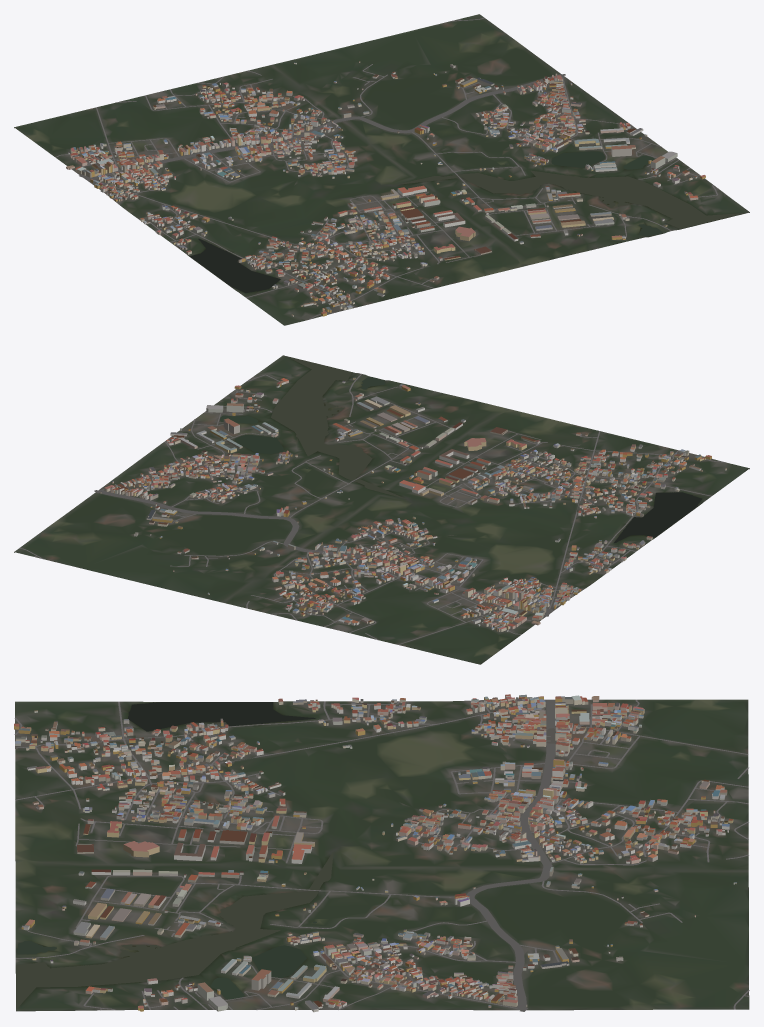
The picture shows the model from 3 angles, top to bottom: view 1: azimuth 30°, elevation 25°; view 2: azimuth 150°, elevation 25°; view 3: azimuth 270°, elevation 25°; orthographic projection. The views are drawn at different scales.
Visible parts, largest first — view 1: ground, buildings, water, roads; view 2: ground, buildings, water, roads; view 3: ground, buildings, water, roads.
Part boxes in pixels (x1,y1,x2,y2): ground: (14, 14, 749, 325); buildings: (66, 61, 705, 316); water: (190, 151, 745, 293); roads: (55, 17, 718, 319); ground: (14, 355, 749, 664); buildings: (100, 377, 726, 631); water: (220, 356, 702, 543); roads: (19, 374, 724, 644); ground: (15, 699, 749, 1011); buildings: (14, 694, 736, 1012); water: (16, 702, 333, 1008); roads: (14, 699, 749, 1011).
Size of the model in its own units: 1417 by 33.11 by 1407.
